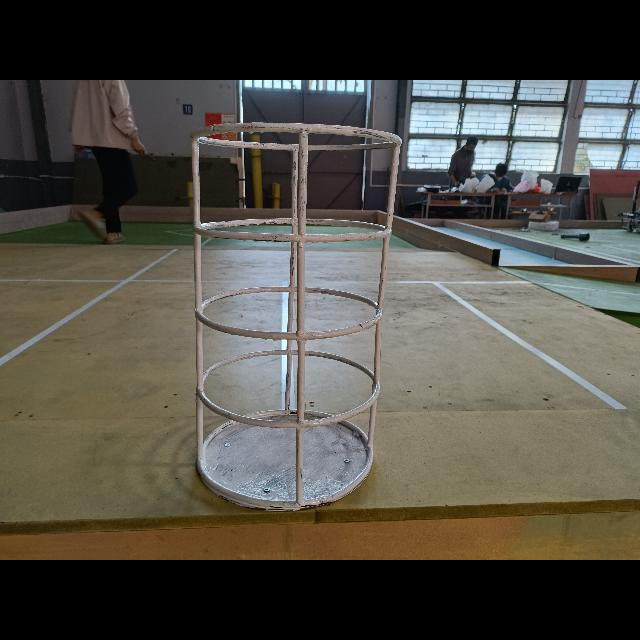S: (188, 123, 404, 511)
